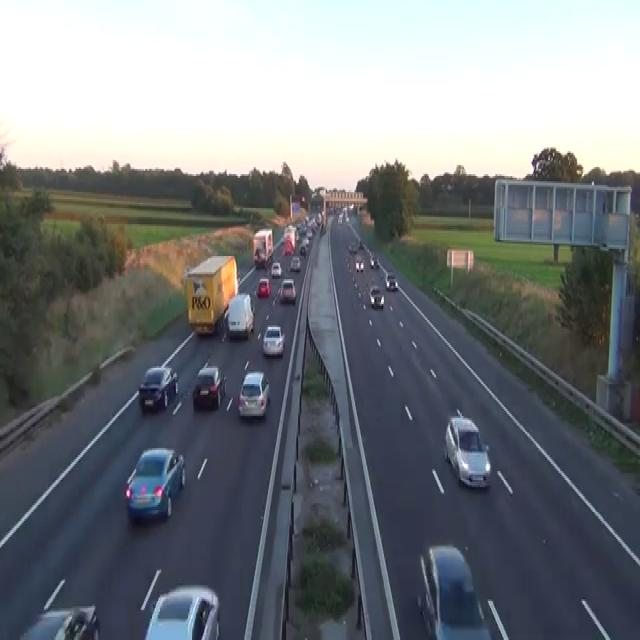Car: (417, 542, 492, 638), (18, 578, 100, 638), (124, 446, 186, 523), (144, 583, 220, 638), (444, 409, 491, 489), (138, 364, 178, 410), (192, 363, 226, 409), (54, 604, 100, 638), (237, 372, 270, 418), (262, 326, 285, 356), (278, 278, 296, 302), (369, 284, 384, 308), (256, 277, 270, 297), (254, 246, 265, 268), (385, 272, 398, 290), (289, 256, 301, 272), (270, 262, 281, 278), (282, 240, 293, 256), (183, 265, 191, 284), (355, 256, 364, 272), (344, 252, 351, 270), (370, 256, 379, 268), (319, 222, 326, 235), (348, 242, 357, 252), (357, 238, 364, 249), (299, 244, 306, 254), (305, 228, 312, 238), (446, 182, 454, 190), (316, 212, 321, 224), (359, 260, 364, 272), (337, 215, 343, 224), (348, 202, 354, 210), (280, 234, 284, 243), (344, 215, 349, 222)
Truck: (184, 254, 238, 334), (225, 292, 255, 338), (252, 228, 273, 268), (283, 224, 297, 252)
